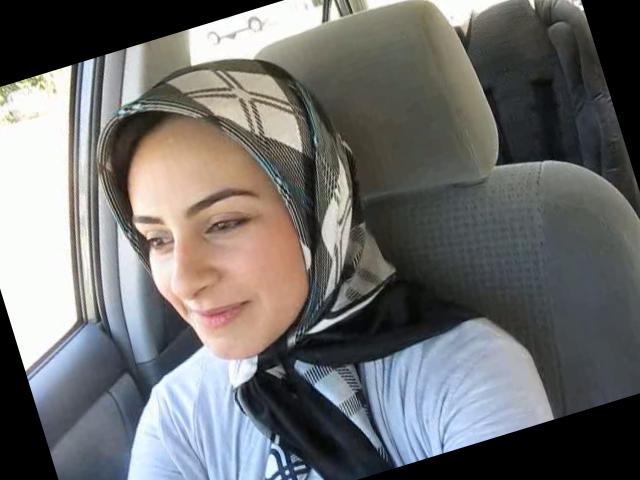eye_open: (199, 204, 259, 244), (145, 229, 172, 255)
face: (122, 158, 312, 380)
